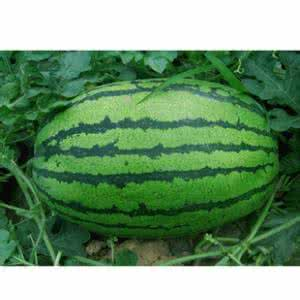watermelon: (28, 77, 284, 231)
